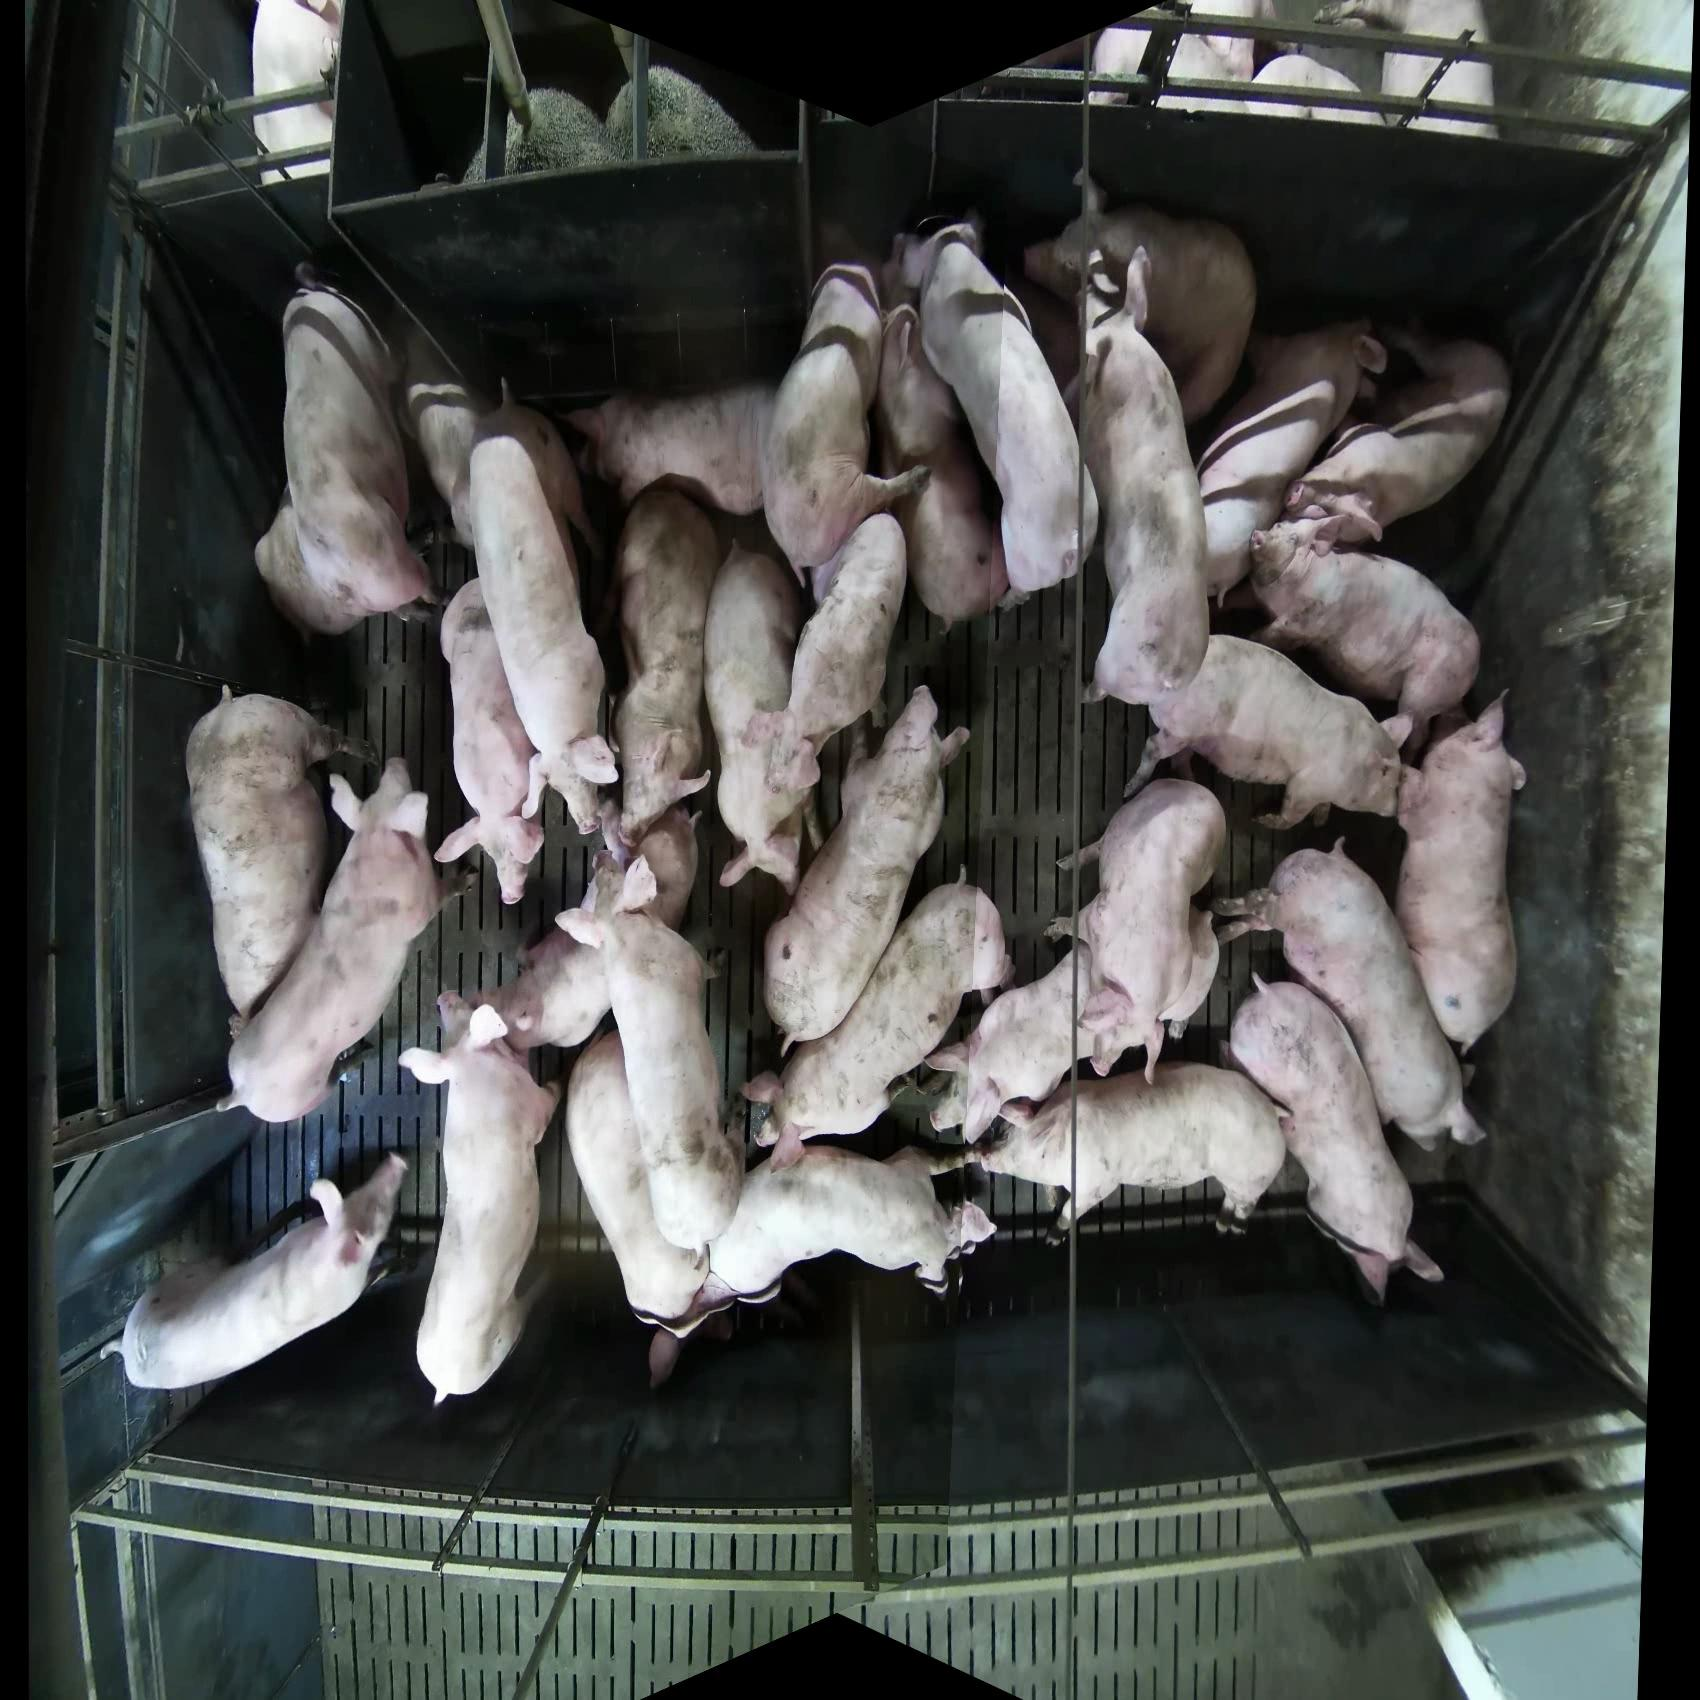pig: (216, 757, 476, 1126), (551, 855, 739, 1329), (1213, 839, 1487, 1150), (739, 869, 1015, 1172), (761, 685, 973, 1062), (100, 1149, 409, 1393), (1224, 967, 1446, 1306), (556, 853, 744, 1252), (254, 265, 437, 637), (399, 992, 562, 1406), (1068, 241, 1213, 708), (914, 229, 1090, 604), (184, 687, 377, 1027), (713, 1127, 1006, 1343), (1245, 509, 1484, 767), (1023, 170, 1259, 427), (1121, 634, 1412, 831), (1196, 316, 1389, 609), (973, 1062, 1289, 1236), (1281, 311, 1513, 548), (760, 262, 931, 579), (1054, 777, 1228, 1084), (1393, 687, 1529, 1054), (593, 495, 727, 842), (434, 578, 548, 906), (564, 381, 775, 517), (732, 557, 810, 813), (251, 2, 344, 185), (604, 64, 760, 163), (501, 89, 621, 177)
